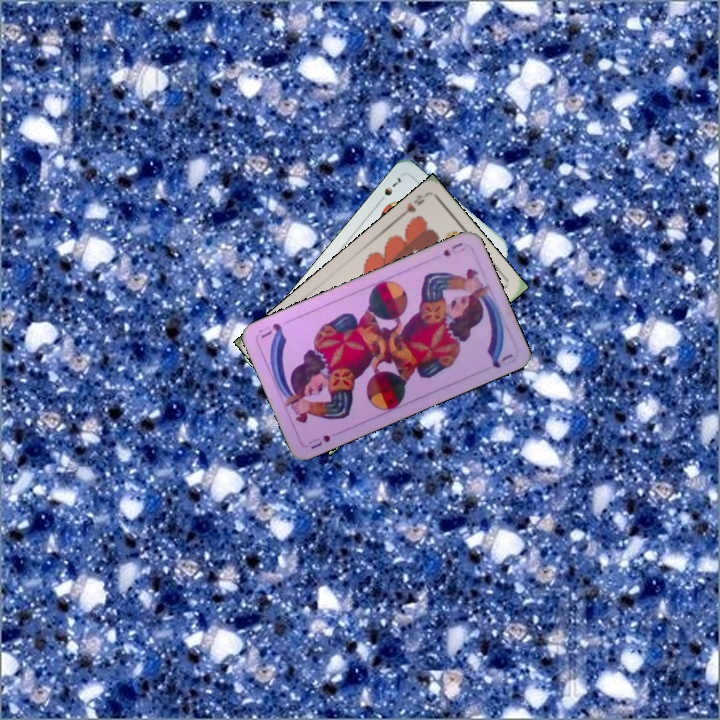H9: (395, 191, 427, 221)
S7: (374, 173, 404, 206)
SU: (304, 430, 333, 452), (439, 238, 466, 259)
